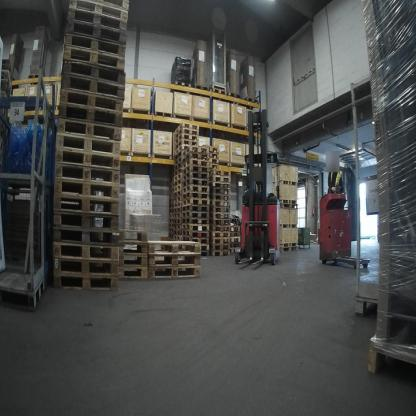forklift: (238, 101, 285, 273)
pallet: (363, 337, 413, 388), (54, 148, 123, 174), (61, 29, 125, 57), (56, 133, 124, 159), (57, 102, 124, 127), (59, 61, 126, 85), (60, 73, 126, 96), (57, 180, 121, 202), (60, 89, 124, 110), (66, 7, 127, 29), (61, 49, 129, 68), (54, 214, 120, 233), (52, 259, 119, 277), (57, 122, 124, 140), (54, 243, 119, 261), (54, 197, 121, 214), (54, 164, 122, 180), (53, 228, 120, 244), (146, 237, 202, 256), (70, 20, 126, 39), (70, 2, 125, 20), (52, 274, 118, 288), (149, 266, 201, 283), (146, 254, 200, 268), (117, 254, 146, 269), (118, 229, 143, 245), (172, 80, 192, 100), (117, 268, 147, 281), (174, 122, 199, 136), (0, 92, 15, 115), (182, 151, 208, 164), (2, 54, 14, 80), (182, 147, 207, 159), (175, 127, 199, 139), (118, 245, 146, 255), (182, 197, 210, 207), (174, 134, 199, 145), (278, 242, 299, 255), (191, 80, 209, 95), (183, 164, 207, 175), (183, 176, 207, 187), (182, 203, 208, 213), (182, 160, 209, 169), (183, 186, 210, 195), (277, 200, 299, 211), (174, 145, 198, 155), (182, 171, 208, 180), (1, 66, 12, 87), (182, 217, 209, 225), (183, 191, 209, 199), (175, 138, 197, 147), (209, 180, 231, 189), (27, 72, 41, 86), (209, 86, 228, 96), (210, 168, 231, 177), (209, 199, 230, 208), (182, 230, 208, 237), (228, 93, 243, 105), (244, 98, 259, 110), (210, 193, 232, 201), (209, 244, 230, 252), (210, 225, 230, 233), (108, 3, 130, 10), (208, 237, 230, 244), (183, 212, 208, 218), (181, 225, 209, 230), (210, 213, 230, 220), (208, 176, 231, 182), (2, 81, 10, 98), (202, 151, 219, 159), (209, 251, 230, 257), (210, 220, 230, 226), (208, 188, 231, 193), (172, 178, 184, 187), (201, 146, 219, 152), (209, 232, 230, 237), (189, 238, 209, 243), (227, 247, 241, 254), (229, 237, 242, 244), (174, 156, 183, 166), (229, 225, 240, 233), (207, 164, 219, 171), (201, 250, 210, 259), (174, 163, 183, 172), (172, 201, 182, 209), (173, 186, 184, 193), (210, 208, 229, 212), (174, 152, 183, 160), (173, 191, 184, 197), (174, 167, 182, 175), (206, 159, 218, 164), (174, 174, 182, 181), (199, 246, 208, 252), (174, 236, 183, 242), (229, 233, 242, 237), (173, 197, 183, 202), (172, 213, 182, 218), (173, 219, 181, 225), (168, 202, 176, 208), (174, 230, 181, 236), (168, 181, 174, 188), (172, 208, 182, 212), (173, 225, 181, 230), (229, 244, 241, 247), (169, 197, 176, 202), (168, 213, 175, 218), (169, 191, 174, 197), (169, 228, 174, 234), (169, 177, 174, 182), (169, 223, 174, 228), (169, 208, 175, 212), (168, 188, 174, 191), (168, 219, 173, 222)
pallet_truck: (314, 183, 371, 273)
stillage: (2, 182, 51, 284), (4, 103, 54, 183)
